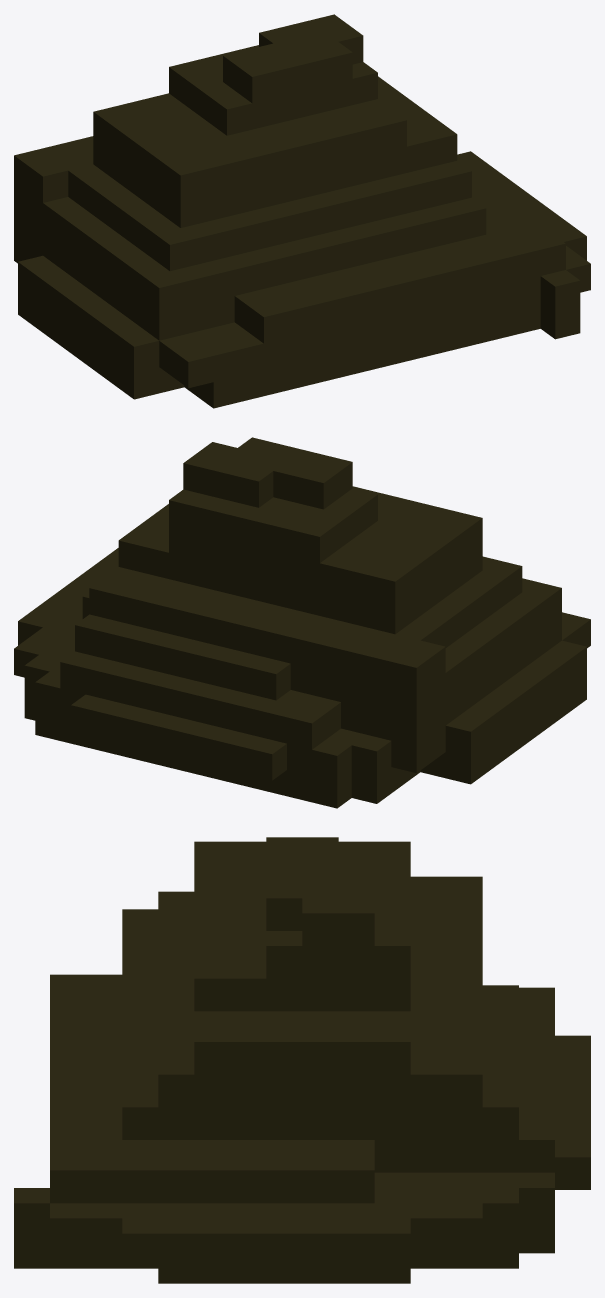
Rendered from rock1.obj.
The picture shows the model from 3 angles, top to bottom: view 1: azimuth 30°, elevation 25°; view 2: azimuth 150°, elevation 25°; view 3: azimuth 270°, elevation 25°; orthographic projection. The views are drawn at different scales.
Size of the model in its own units: 1.8 by 0.9 by 1.6.
1 material, 1 textured.
